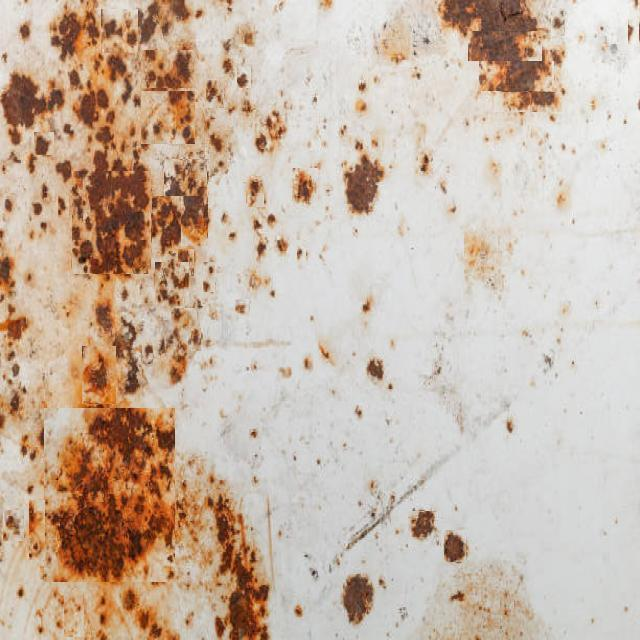Corrosion: (61, 409, 166, 582), (440, 0, 558, 108), (72, 151, 151, 274), (215, 525, 269, 640), (345, 154, 385, 212), (1, 72, 42, 126), (72, 79, 109, 126), (343, 575, 375, 626), (444, 533, 468, 564), (412, 511, 436, 540), (68, 69, 83, 90)
